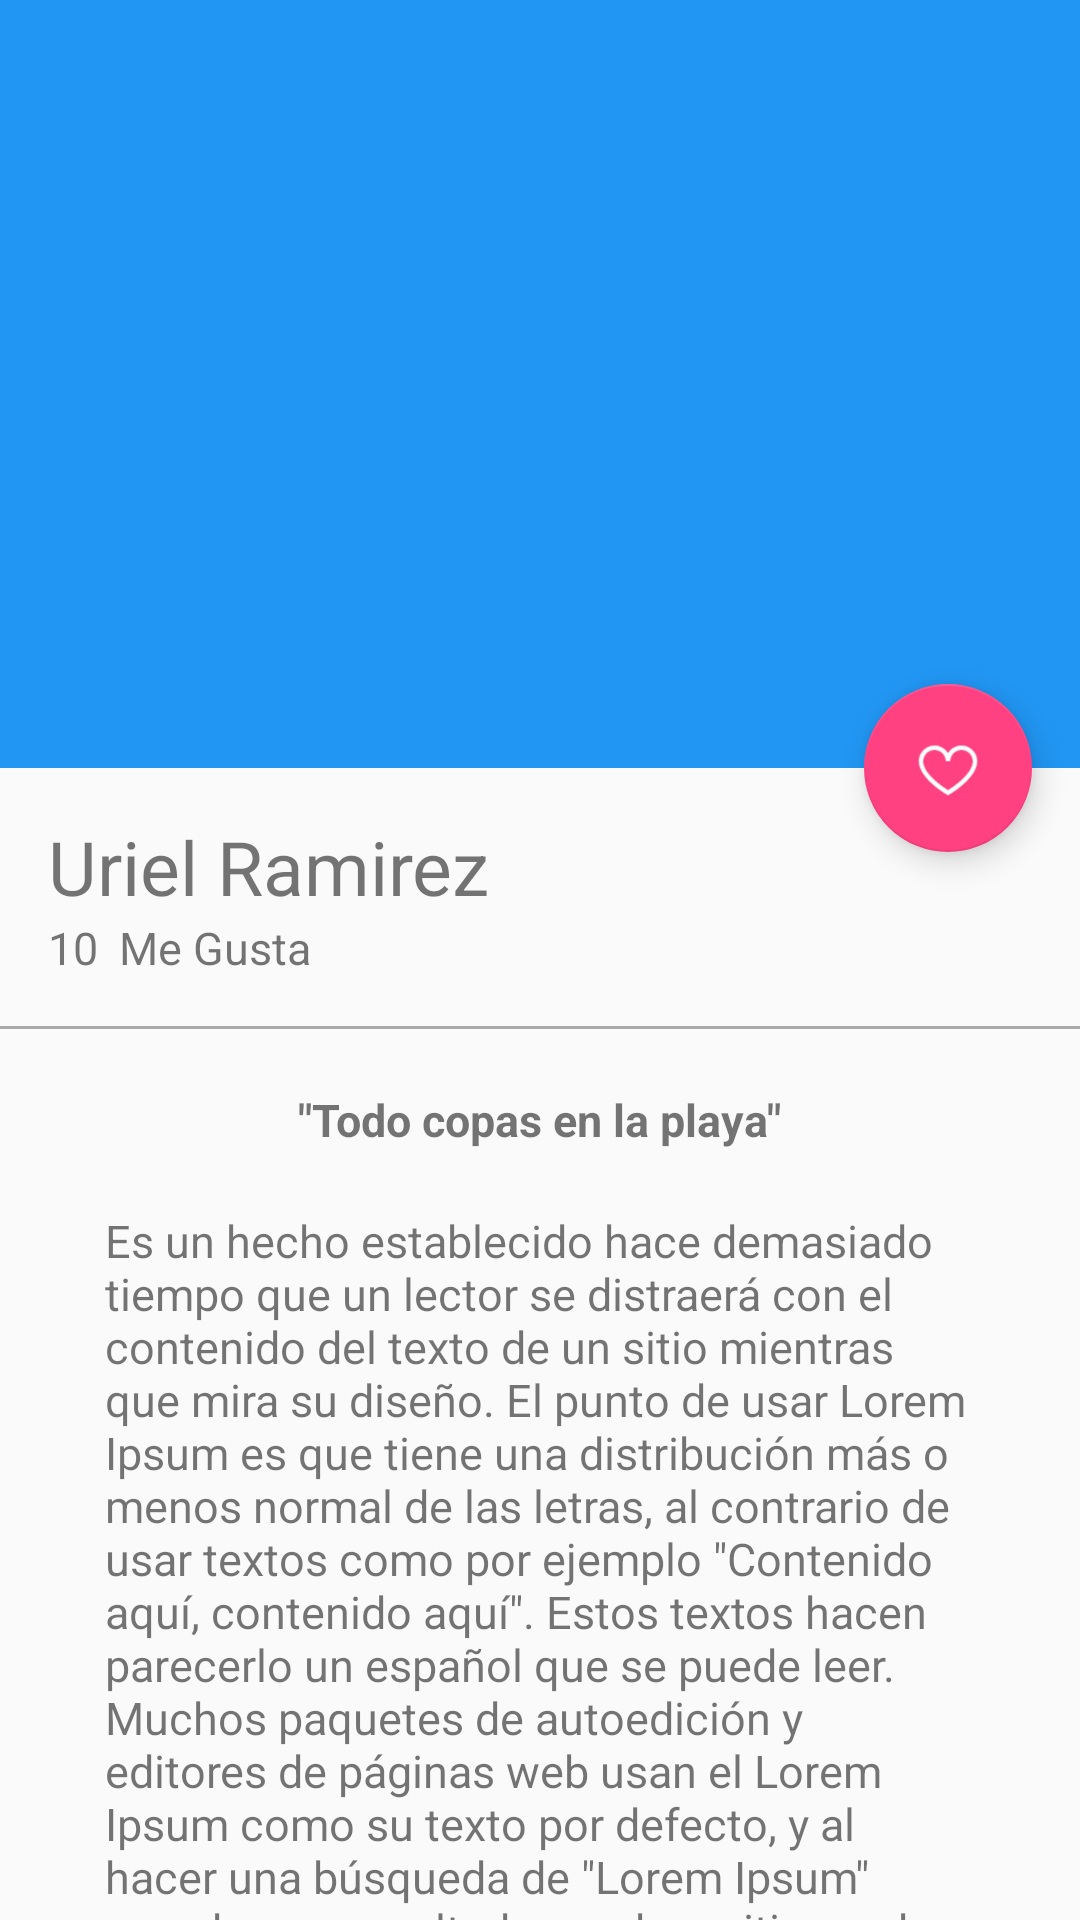

Named icons in this screenshot (1080px×1920px) and their centers, point (x, y):
heart: point (948, 768)
